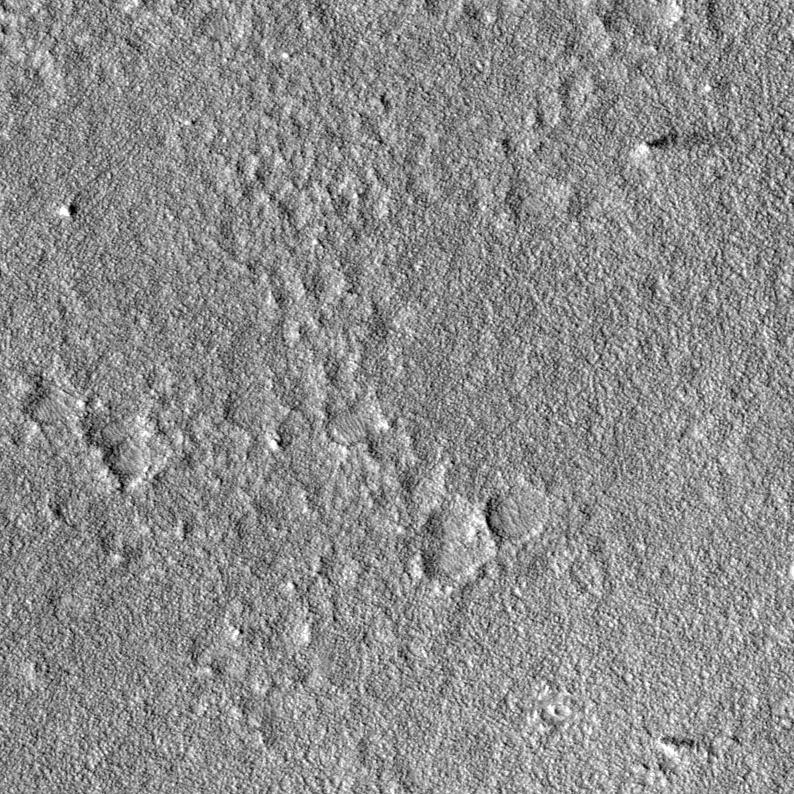dust_devil: (629, 128, 721, 160), (656, 734, 700, 761)
